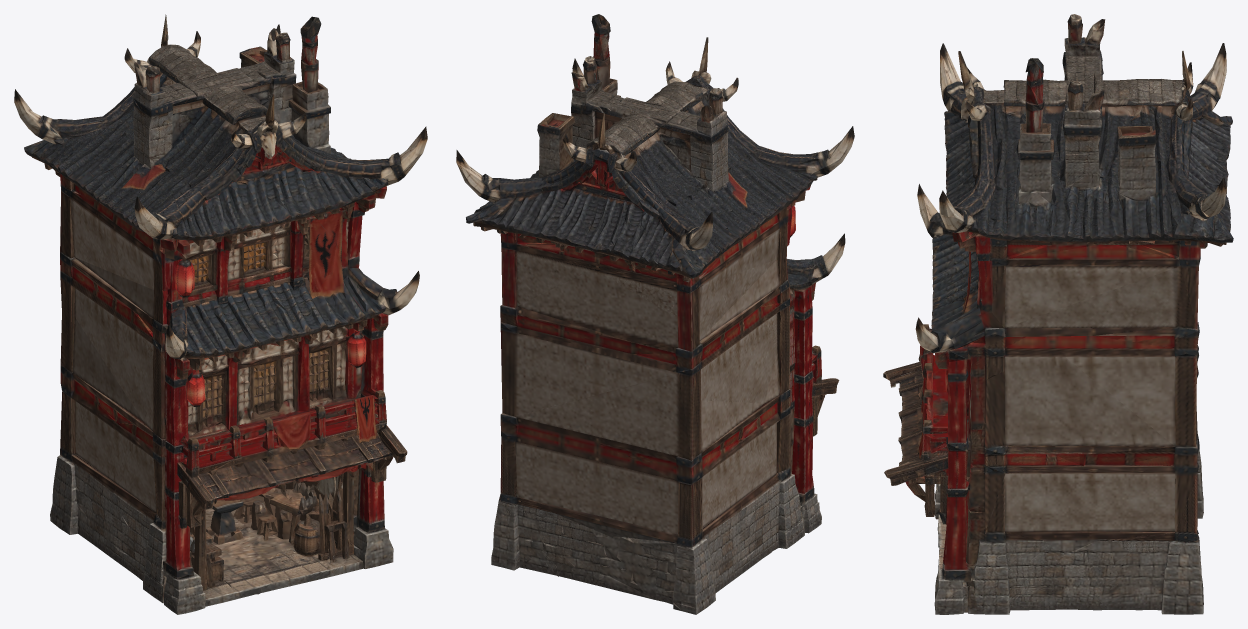
The model's file is house_tall.glb.
3 renders of one model, left to right at view 1: azimuth 30°, elevation 25°; view 2: azimuth 150°, elevation 25°; view 3: azimuth 270°, elevation 25°, orthographic. The views are drawn at different scales.
Visible parts, largest first — view 1: Mesh_0; view 2: Mesh_0; view 3: Mesh_0.
Boxes of the visible parts, x1=… form: Mesh_0: x1=14, y1=14, x2=427, y2=614; Mesh_0: x1=456, y1=14, x2=854, y2=614; Mesh_0: x1=883, y1=14, x2=1233, y2=614.
Size of the model in its own units: 7.65 by 13 by 7.62.
Materials: 1 (1 with a texture image).
